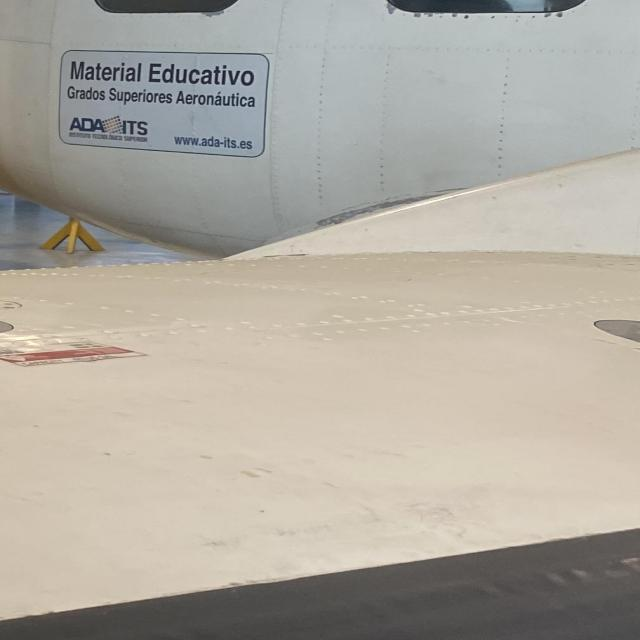Paint-off: (200, 9, 225, 19), (385, 1, 397, 15)
Scratch: (310, 184, 479, 232)
